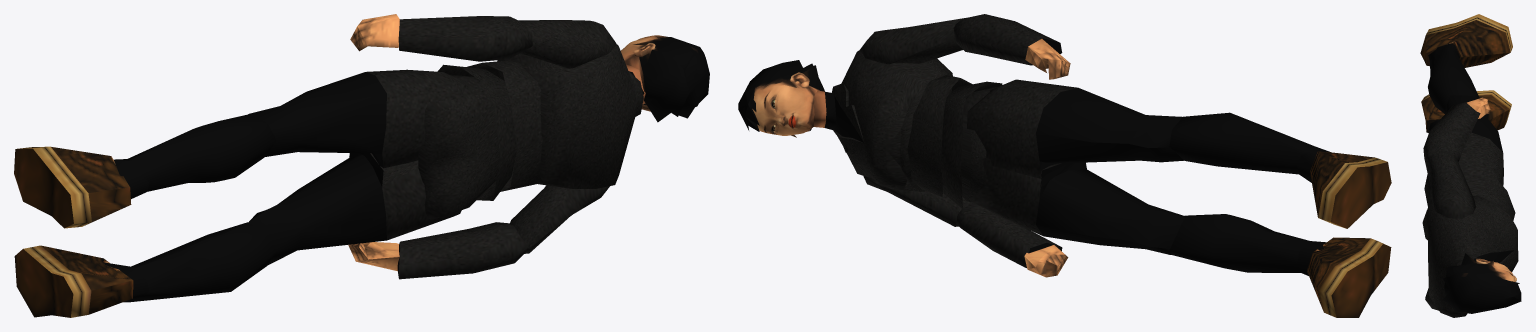
The model's file is asuka.obj.
The picture shows the model from 3 angles, left to right: view 1: azimuth 30°, elevation 25°; view 2: azimuth 150°, elevation 25°; view 3: azimuth 270°, elevation 25°; orthographic projection. The views are drawn at different scales.
Size of the model in its own units: 1.71 by 0.6331 by 0.3166.
